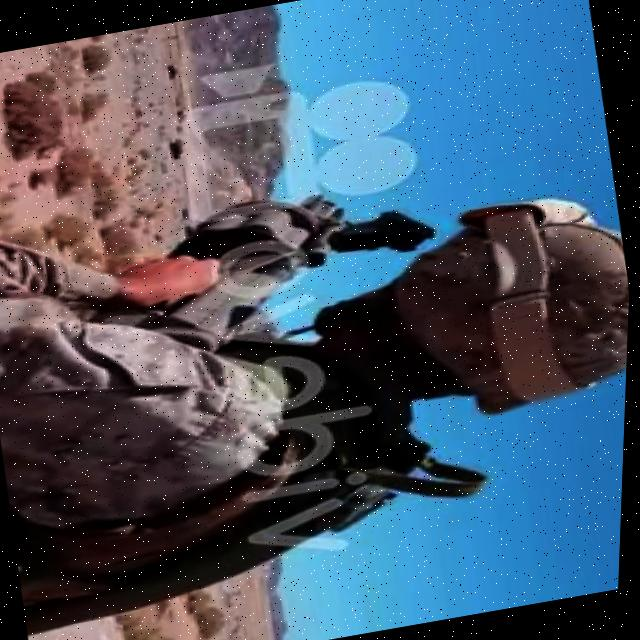rocket: (114, 174, 440, 364)
